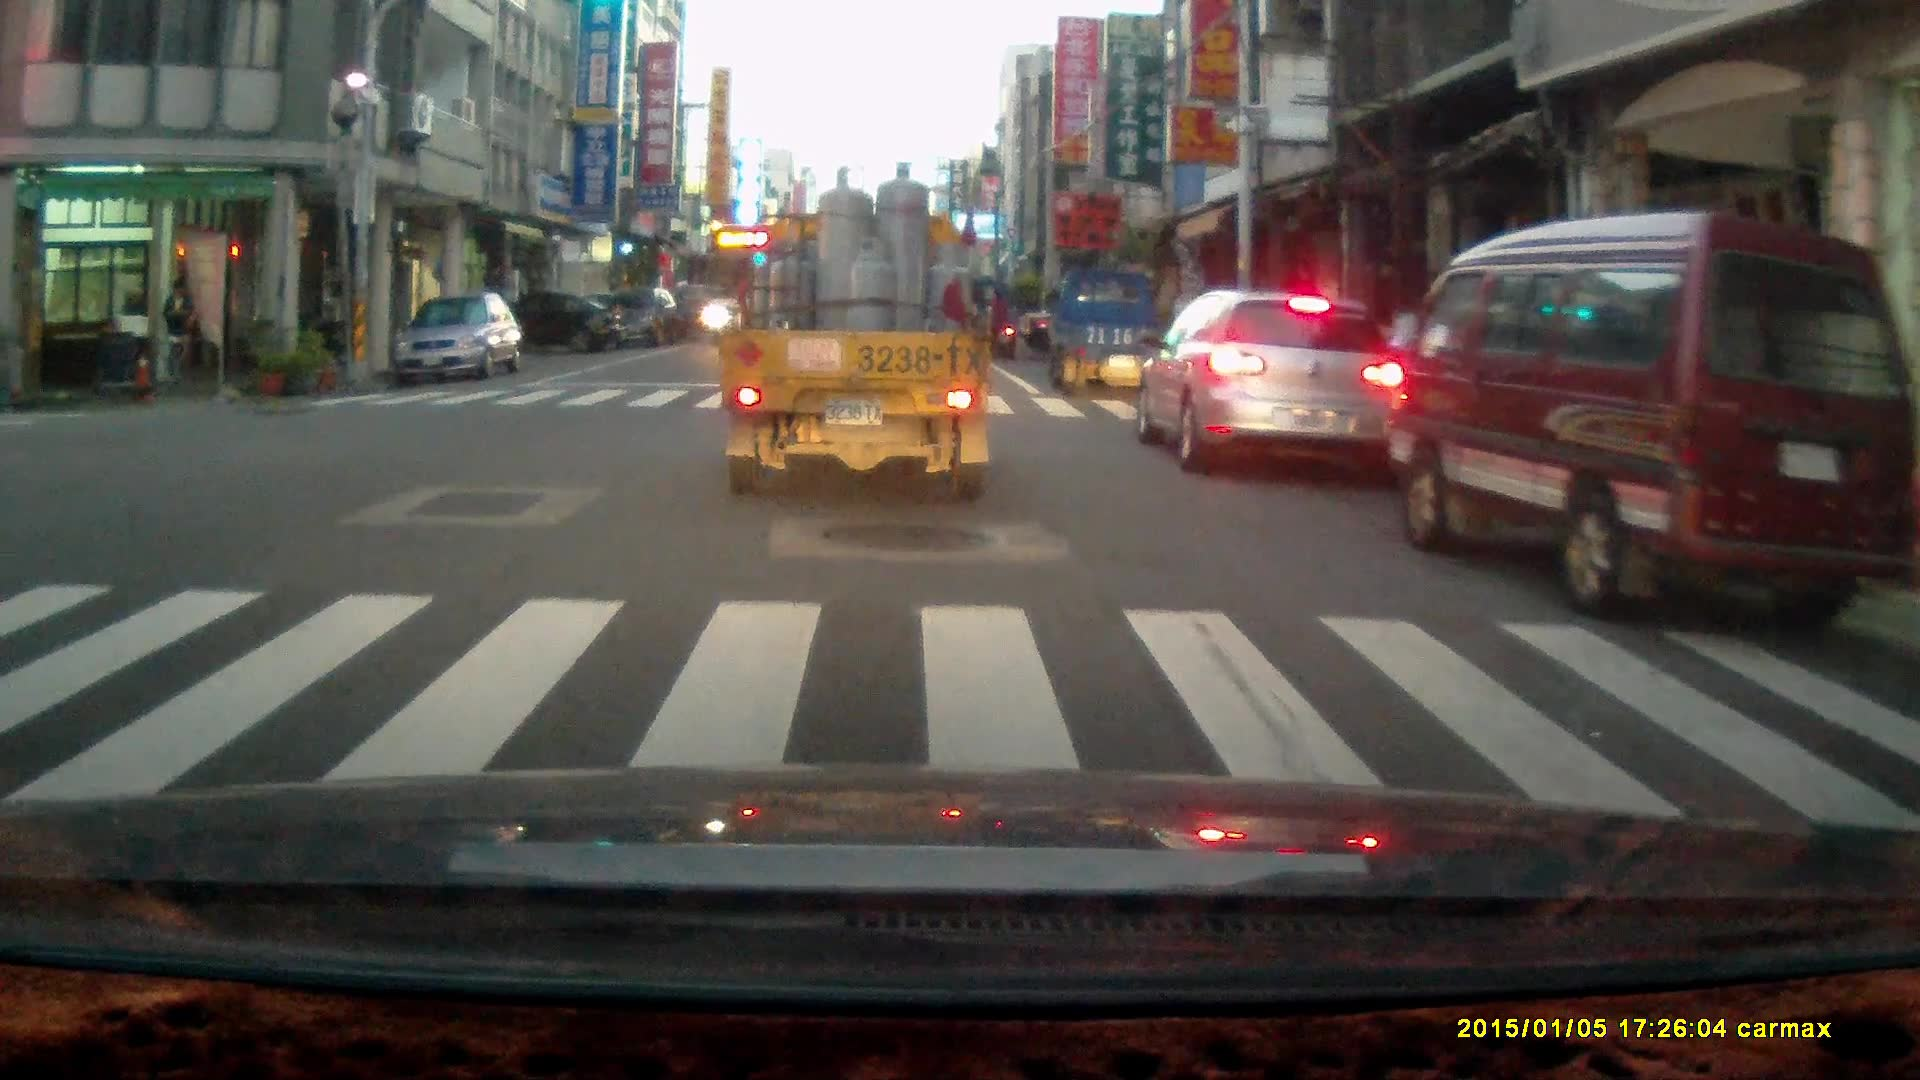pedestrian: (161, 273, 197, 394)
vehicle: (1391, 211, 1903, 632), (721, 165, 995, 507), (1136, 288, 1397, 484), (1049, 272, 1185, 409), (391, 291, 520, 384), (463, 294, 623, 362), (579, 287, 676, 349)
